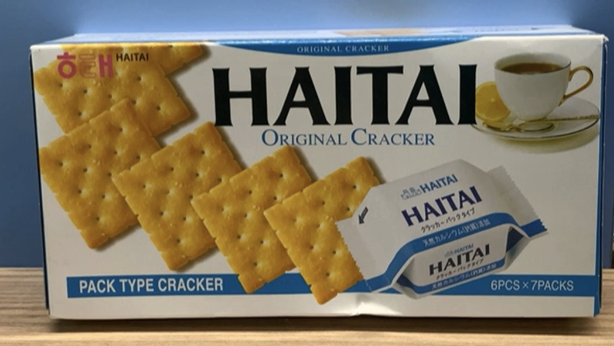crackers_200g-299g: (55, 48, 588, 300)
